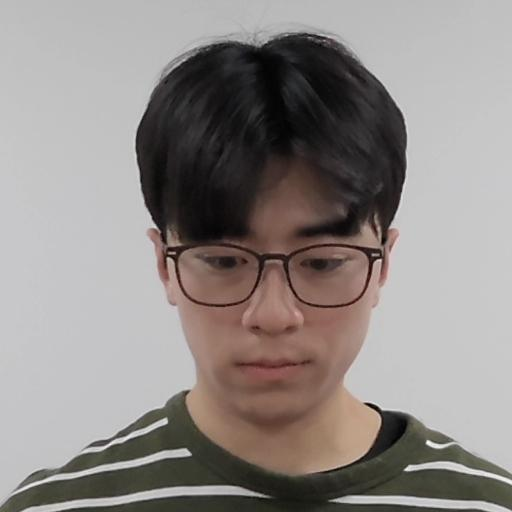no_glasses: (135, 36, 409, 419)
